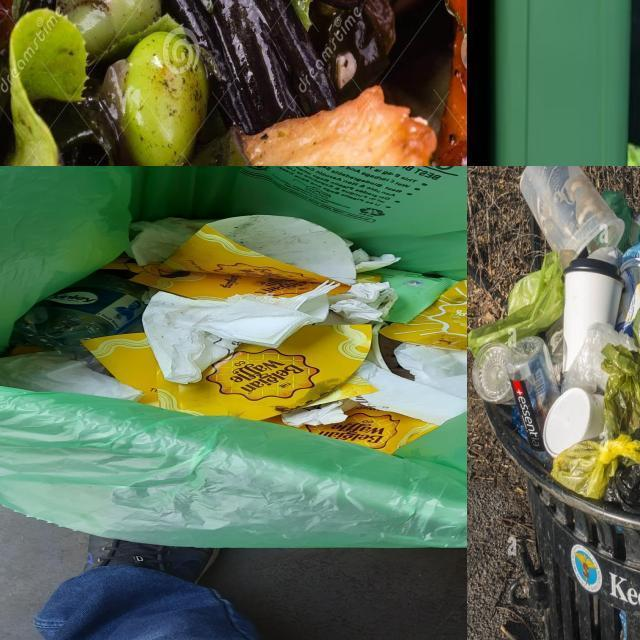Disposable: (519, 166, 623, 263), (563, 258, 623, 371), (543, 388, 605, 458), (471, 341, 513, 403), (616, 258, 640, 336)
Garbage: (0, 215, 467, 452), (468, 166, 640, 516)
Plastic_Bag: (468, 253, 564, 355), (552, 433, 640, 499), (561, 323, 637, 394), (603, 308, 640, 433)
Plastic_bottle: (9, 272, 150, 356), (507, 337, 560, 450)
Plastic_wraper: (358, 267, 459, 323)
